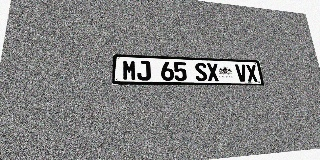plate: (112, 54, 264, 85)
